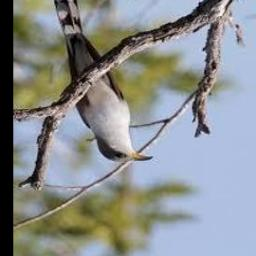Cuckoo: (53, 0, 153, 162)
